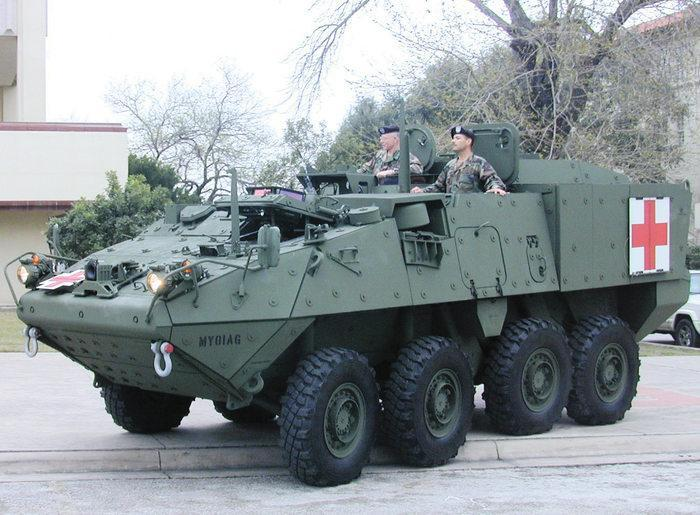MIL_IFV: (4, 121, 694, 487)
